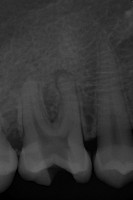Furcation Involvement: (50, 68, 73, 86)
